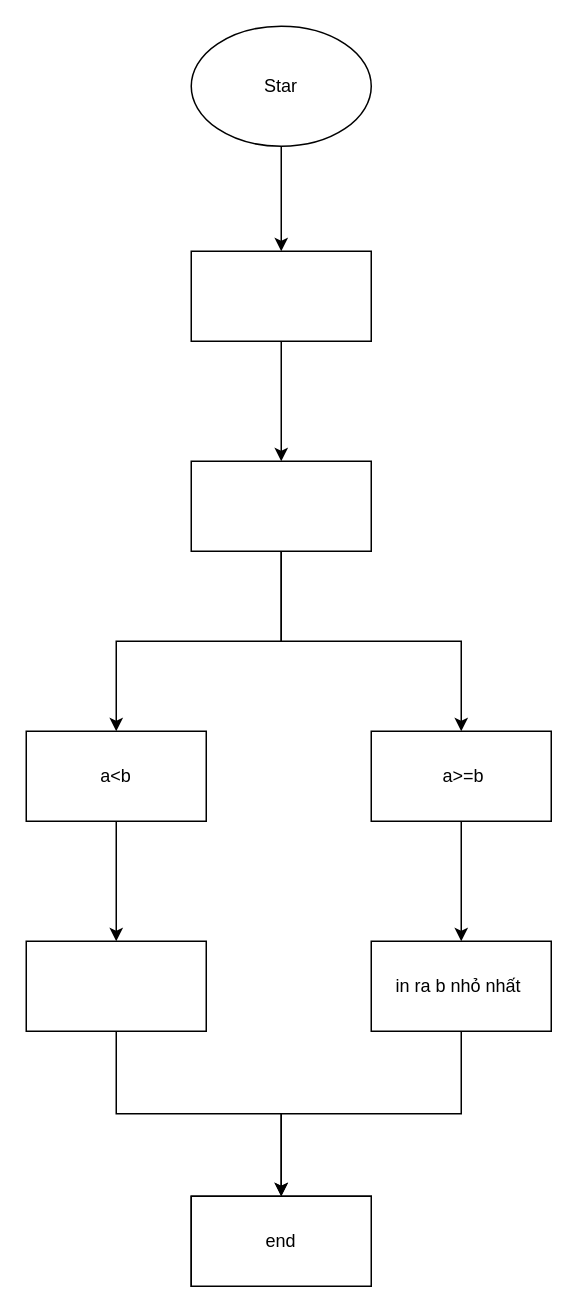
The diagram is 578 pixels wide and 1313 high, and some of its shapes have lost their labels. Here are the shapes that lost their labels. From the top down, the centre of each, then its label:
At point (280, 295): "Nhập 2 số ( a , b )".
At point (280, 505): "so sánh a với b".
At point (115, 985): "in ra a nhỏ nhất".
